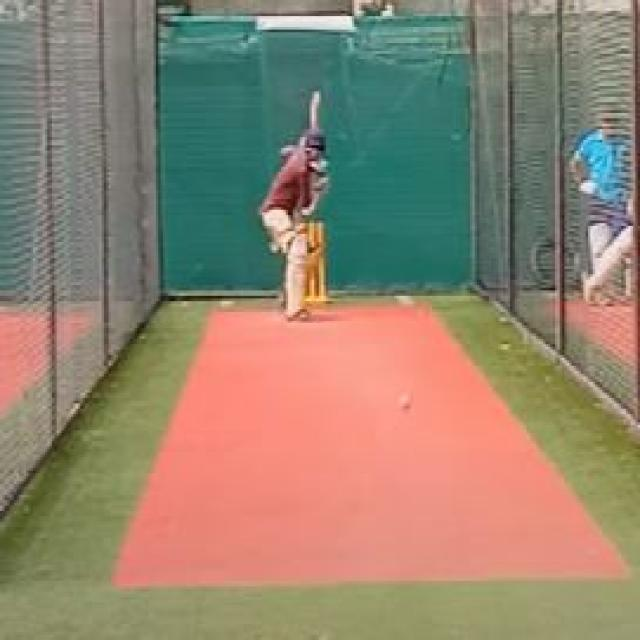ball: (391, 390, 414, 418)
